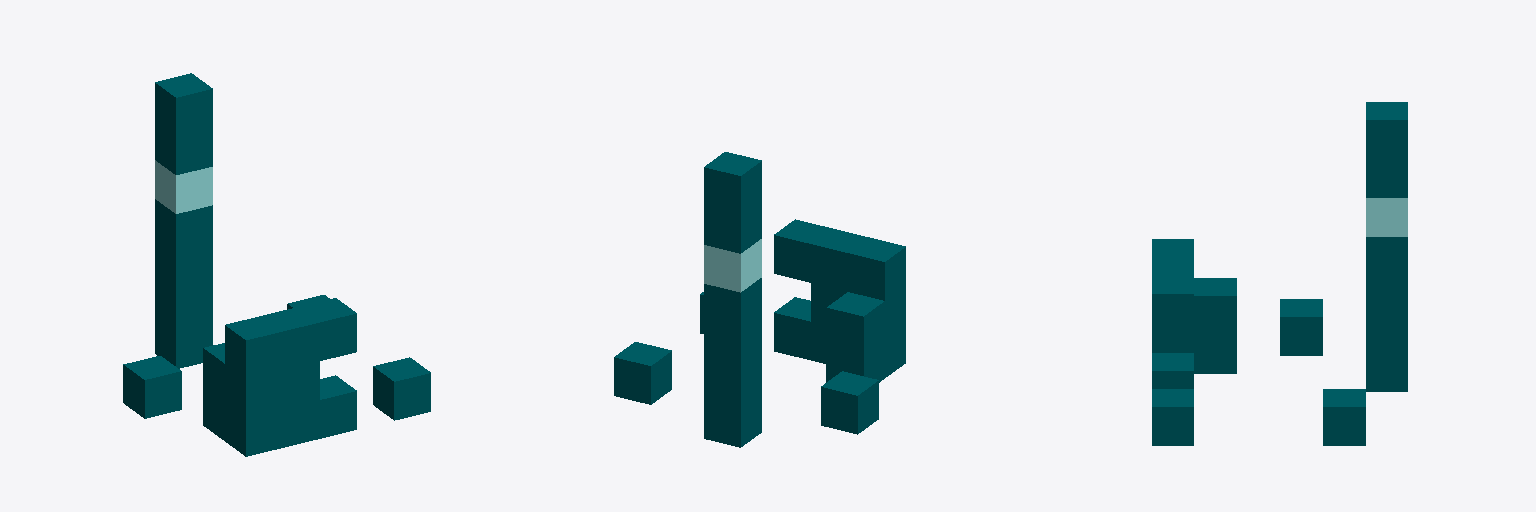
The picture shows the model from 3 angles: view 1: azimuth 30°, elevation 25°; view 2: azimuth 150°, elevation 25°; view 3: azimuth 270°, elevation 25°; orthographic projection.
Visible parts, largest first — view 1: object 1; view 2: object 1; view 3: object 1.
Part boxes in pixels (x1,y1,x2,y2): object 1: (123, 73, 430, 456); object 1: (614, 152, 905, 447); object 1: (1152, 102, 1407, 445).
Size of the model in its own units: 0.6 by 0.7 by 0.6.
Materials: 1 (1 with a texture image).